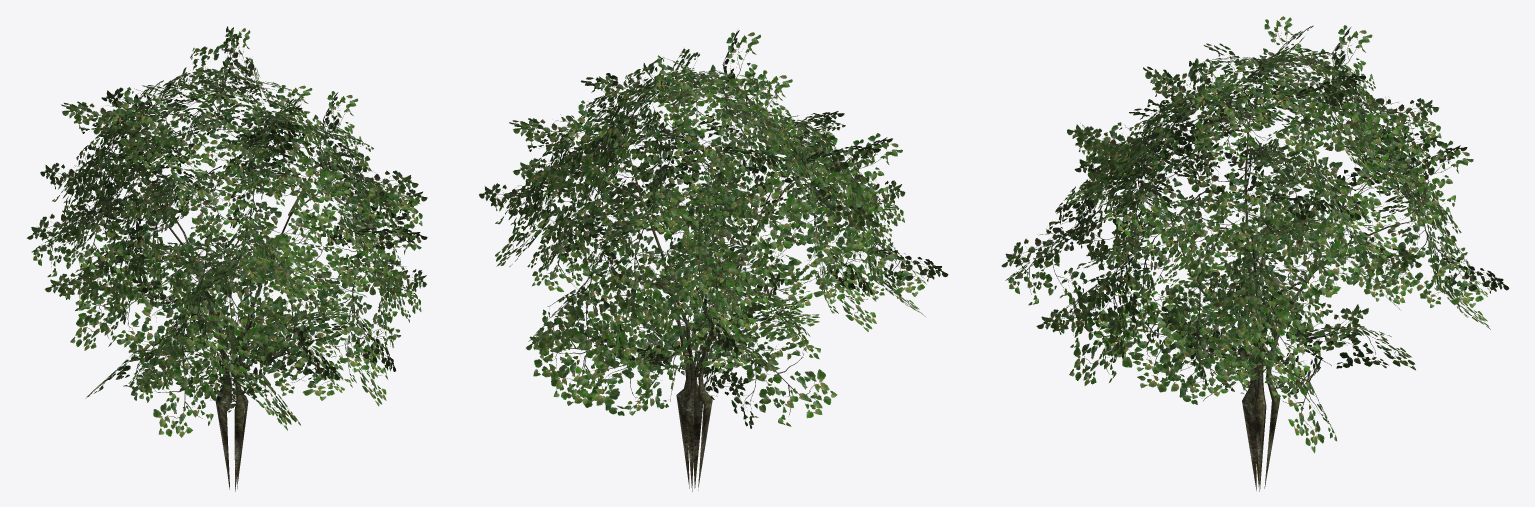
File: Round_Leaf_Bush_big_bright_green.fbx
The picture shows the model from 3 angles, left to right: view 1: azimuth 30°, elevation 25°; view 2: azimuth 150°, elevation 25°; view 3: azimuth 270°, elevation 25°; orthographic projection. The views are drawn at different scales.
Visible parts, largest first — view 1: leaf_Round_Leaf_Bush_big_b_mesh; view 2: leaf_Round_Leaf_Bush_big_b_mesh; view 3: leaf_Round_Leaf_Bush_big_b_mesh.
Boxes of the visible parts, <box> form: leaf_Round_Leaf_Bush_big_b_mesh: <box>27,26,427,491</box>; leaf_Round_Leaf_Bush_big_b_mesh: <box>479,30,948,491</box>; leaf_Round_Leaf_Bush_big_b_mesh: <box>1001,16,1509,491</box>.
Size of the model in its own units: 4.74 by 4.88 by 5.18.
2 materials, 2 textured.
